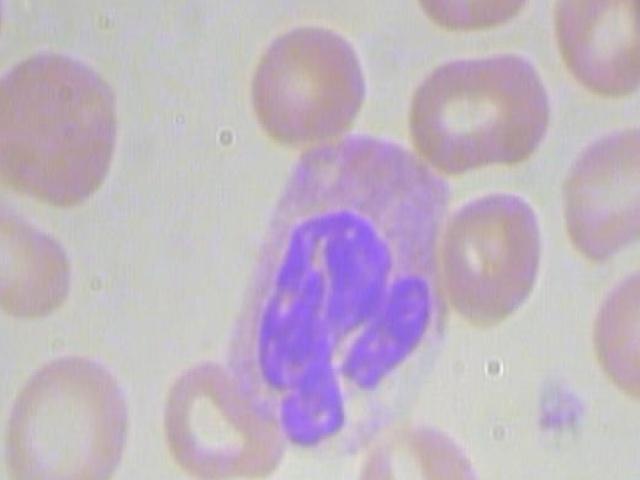RBC: (0, 48, 129, 212), (235, 13, 382, 151), (407, 41, 553, 178), (0, 344, 134, 480), (151, 352, 290, 480), (434, 188, 554, 335), (552, 109, 640, 266), (550, 0, 640, 108), (584, 245, 640, 415), (347, 422, 490, 480), (394, 0, 552, 46), (544, 465, 640, 480)
WBC: (223, 123, 485, 457)
